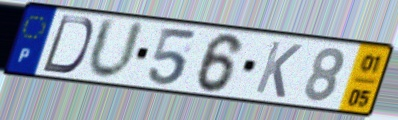5: (145, 26, 200, 88)
6: (195, 31, 243, 95)
8: (303, 46, 348, 104)
D: (39, 13, 96, 76)
K: (252, 38, 305, 100)
U: (84, 15, 148, 83)
